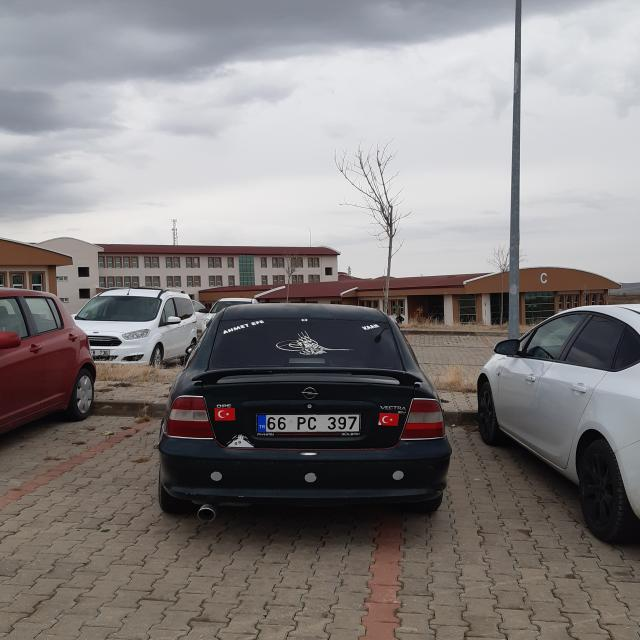license_plate: (258, 415, 360, 433)
